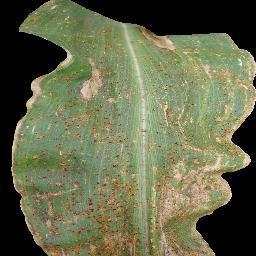Corn_Common_Rust: (123, 18, 256, 256), (6, 0, 122, 256)
